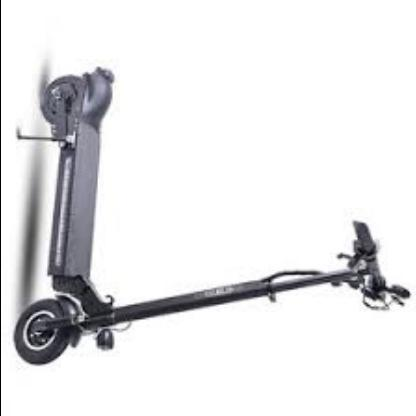bike: (13, 66, 411, 367)
